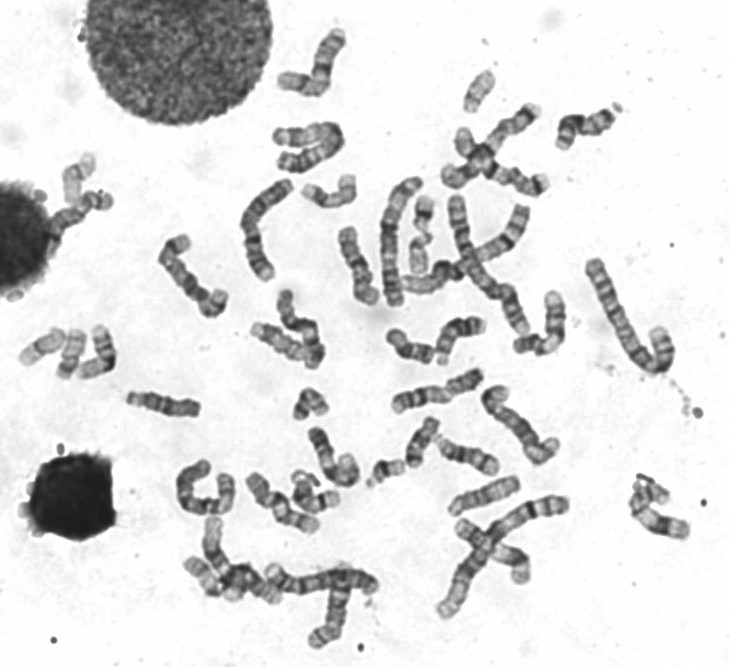chromosomes: (435, 492, 574, 621), (400, 200, 532, 297), (446, 193, 532, 337), (585, 253, 677, 378), (439, 101, 542, 193), (451, 125, 551, 199), (479, 384, 564, 469), (157, 230, 232, 323), (238, 177, 296, 286), (380, 173, 425, 310), (453, 518, 535, 588), (277, 25, 350, 101), (182, 555, 285, 608), (246, 469, 323, 536), (44, 191, 117, 261), (267, 114, 348, 176), (302, 562, 356, 653), (263, 559, 382, 598), (329, 223, 383, 308), (273, 289, 327, 372), (202, 512, 247, 604), (118, 385, 211, 427), (629, 483, 693, 544), (172, 459, 239, 517), (555, 101, 629, 153), (513, 288, 567, 359), (305, 425, 362, 490), (447, 473, 524, 518), (434, 432, 501, 478), (435, 313, 488, 368), (287, 466, 342, 515), (75, 322, 120, 381), (247, 321, 307, 362), (386, 320, 434, 371), (300, 171, 361, 211), (15, 326, 67, 368), (60, 150, 99, 206), (404, 415, 444, 468), (388, 384, 453, 415), (459, 69, 501, 115), (53, 329, 88, 382), (292, 385, 335, 423), (365, 454, 406, 491), (445, 367, 486, 397), (408, 231, 436, 273), (411, 192, 437, 233)
